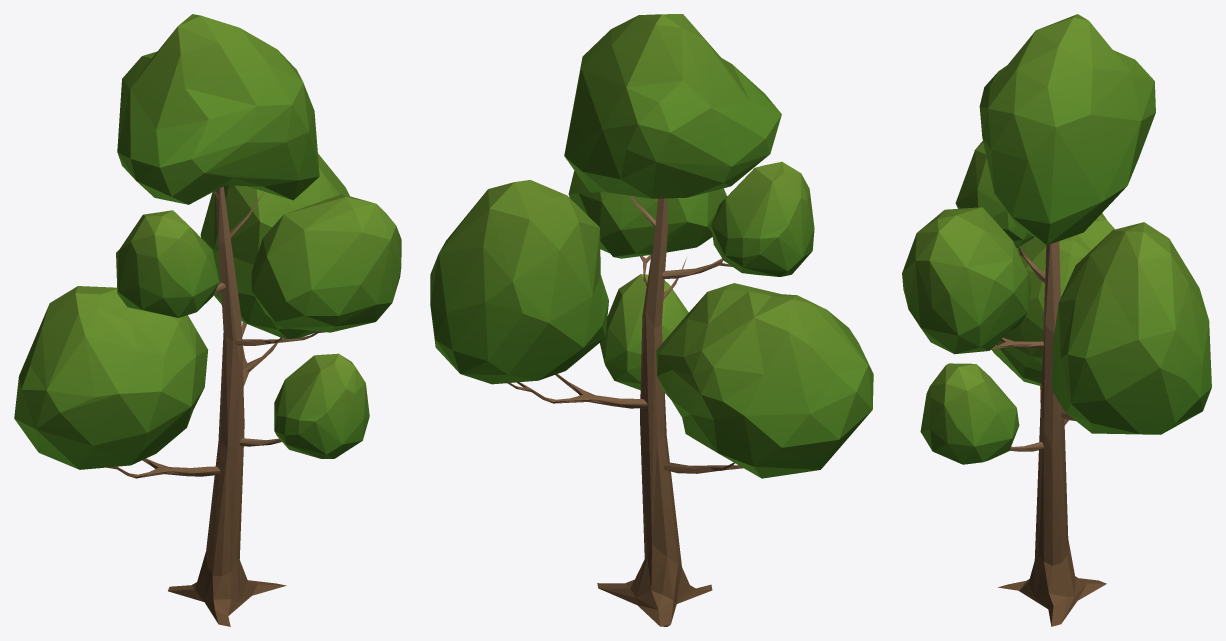
The model's file is SM_Nature_Tree_01.fbx.
The picture shows the model from 3 angles, left to right: view 1: azimuth 30°, elevation 25°; view 2: azimuth 150°, elevation 25°; view 3: azimuth 270°, elevation 25°; orthographic projection. The views are drawn at different scales.
Parts seen in each view (by area): view 1: SM_Nature_Tree_01_LOD0; view 2: SM_Nature_Tree_01_LOD0; view 3: SM_Nature_Tree_01_LOD0.
Part boxes in pixels (x1,y1,x2,y2): SM_Nature_Tree_01_LOD0: (14,14,401,626); SM_Nature_Tree_01_LOD0: (430,14,873,626); SM_Nature_Tree_01_LOD0: (902,14,1211,626).
Bounding box in the file's own units: 9.33 × 14.13 × 6.9.
